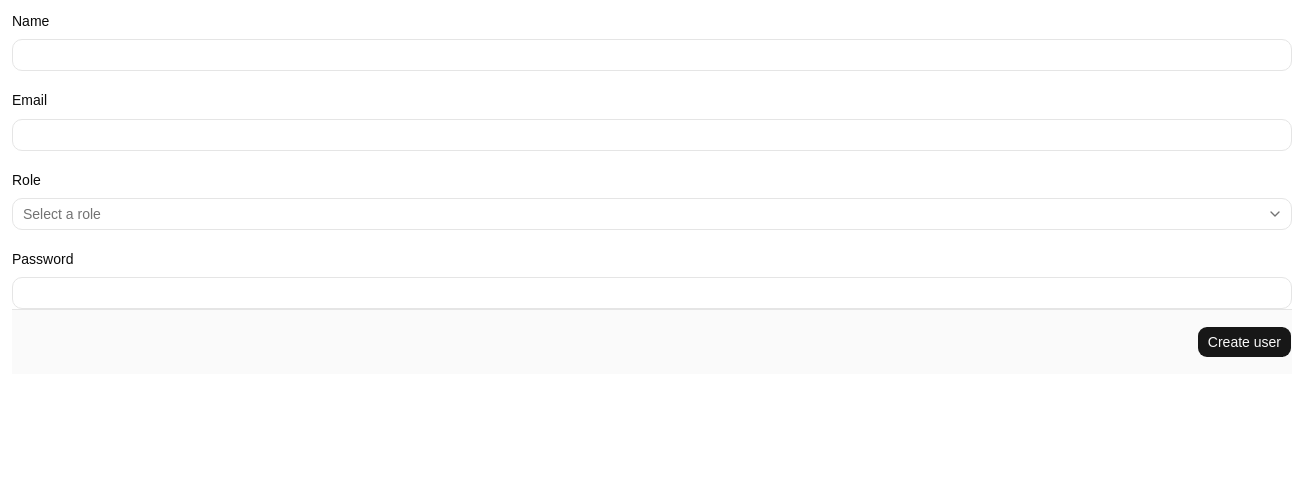
UserForm › create mode › shows validation errors for a name under 3 chars, a missing role, and a password under 5 chars
The image size is (1304, 486).
Type "ab" into the field labelled "Name" at x=652, y=55, box [12,39,1292,71]
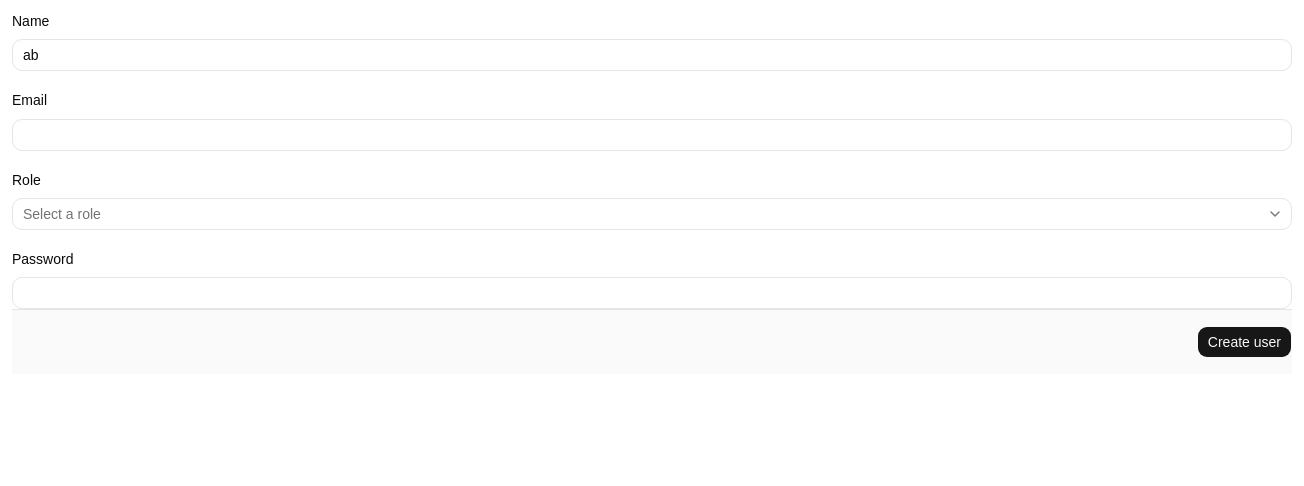
Type "not-an-email" into the field labelled "Email" at x=652, y=134, box [12,118,1292,150]
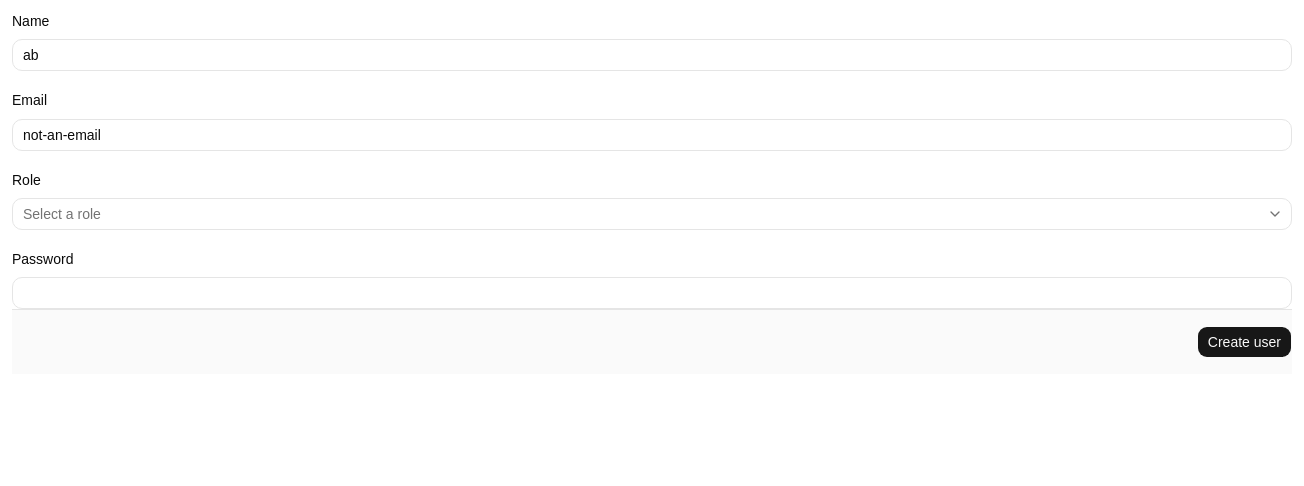
Type "1234" into the password field labelled "Password" at x=652, y=293, box [12,277,1292,309]
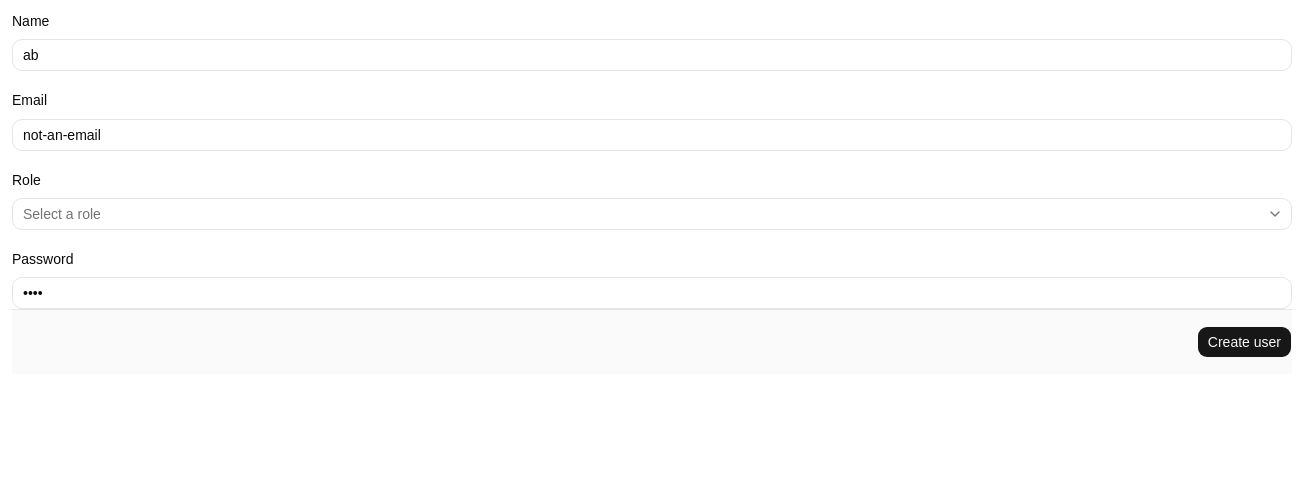
Submit the form
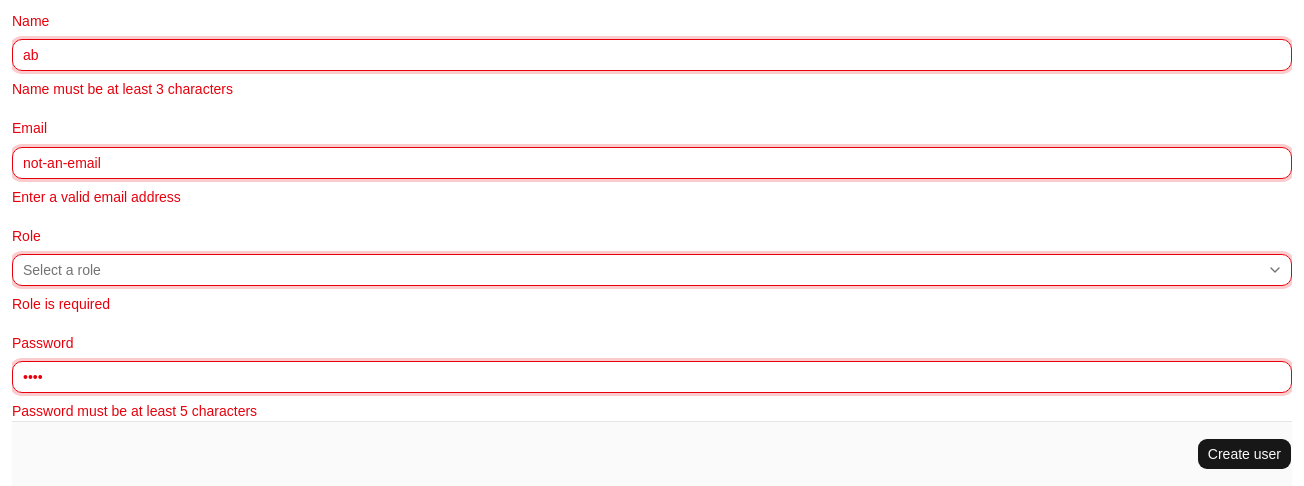
Now the text "Name must be at least 3 characters" is shown, box [12,81,233,97]
Now the text "Enter a valid email address" is shown, box [12,188,181,204]
Now the text "Role is required" is shown, box [12,296,110,312]
